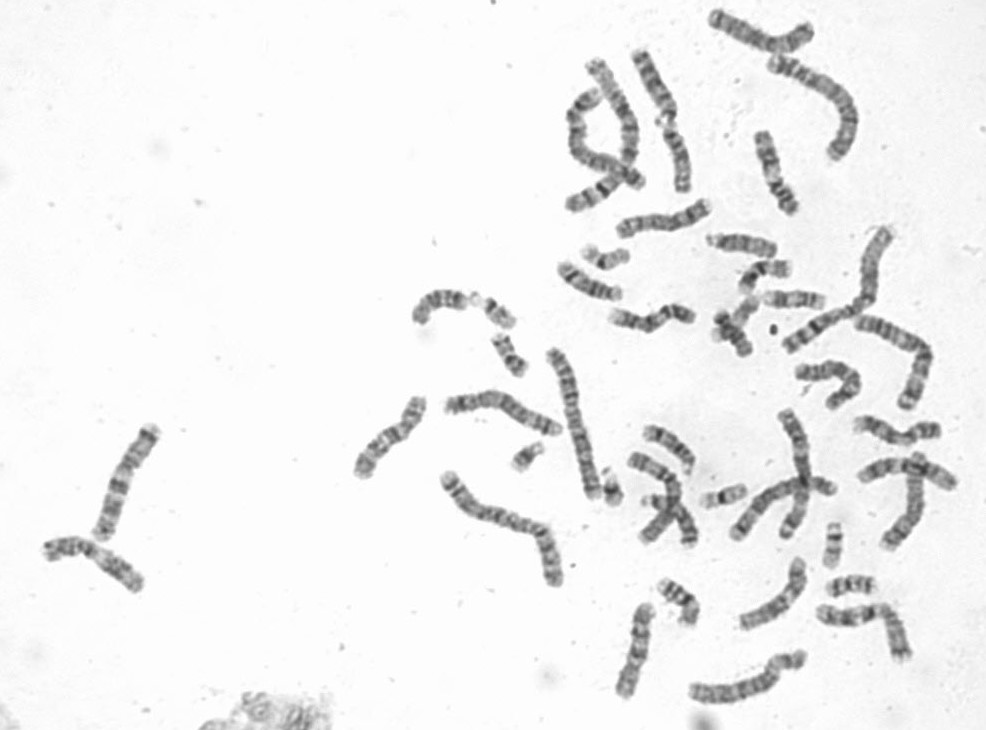chromosomes: (433, 467, 570, 591), (779, 225, 905, 357), (760, 52, 870, 172), (561, 54, 643, 213), (541, 344, 607, 503), (88, 420, 170, 547), (561, 88, 656, 194), (852, 314, 941, 415), (724, 476, 842, 549), (812, 598, 917, 676), (37, 527, 148, 597), (346, 393, 428, 487), (683, 651, 815, 705), (442, 384, 567, 440), (624, 445, 686, 548), (698, 6, 818, 56), (735, 557, 812, 634), (773, 407, 816, 542), (878, 451, 931, 554), (857, 451, 964, 497), (638, 414, 708, 484), (612, 599, 659, 703), (752, 128, 805, 220), (627, 50, 687, 130), (610, 199, 724, 238), (638, 491, 703, 557), (794, 358, 866, 415), (847, 409, 944, 450), (703, 288, 764, 349), (557, 257, 626, 305), (661, 119, 700, 197), (605, 303, 699, 335), (654, 574, 704, 630), (734, 256, 802, 297), (404, 290, 476, 327), (710, 308, 757, 364), (703, 230, 782, 261), (490, 328, 532, 380), (762, 282, 827, 315), (819, 576, 893, 604), (578, 239, 629, 278), (473, 293, 525, 330), (698, 481, 754, 514), (819, 521, 850, 574), (600, 460, 627, 515), (510, 440, 550, 476)
